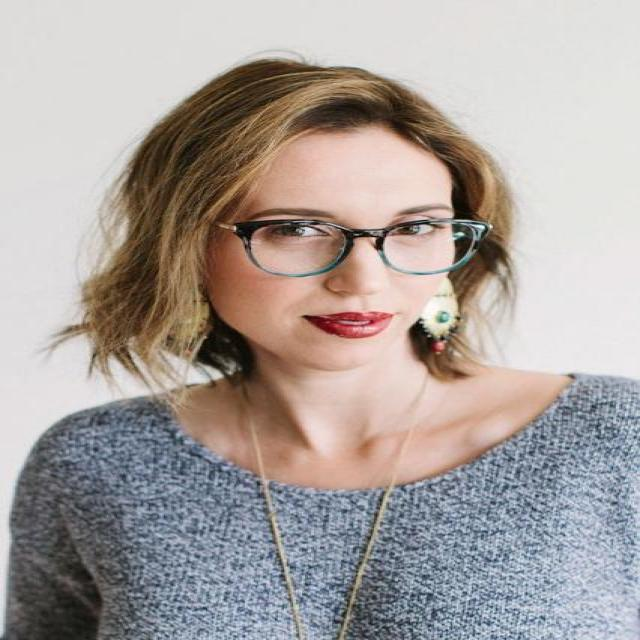glasses: (212, 218, 488, 276)
